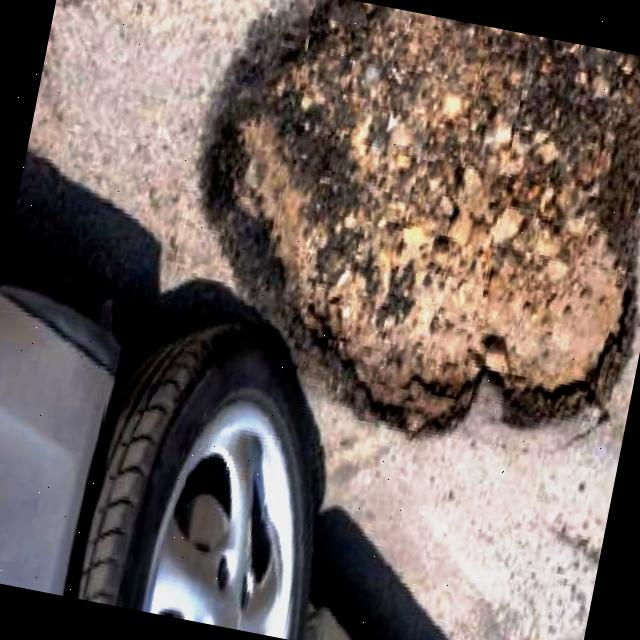pothole: (143, 0, 640, 475)
